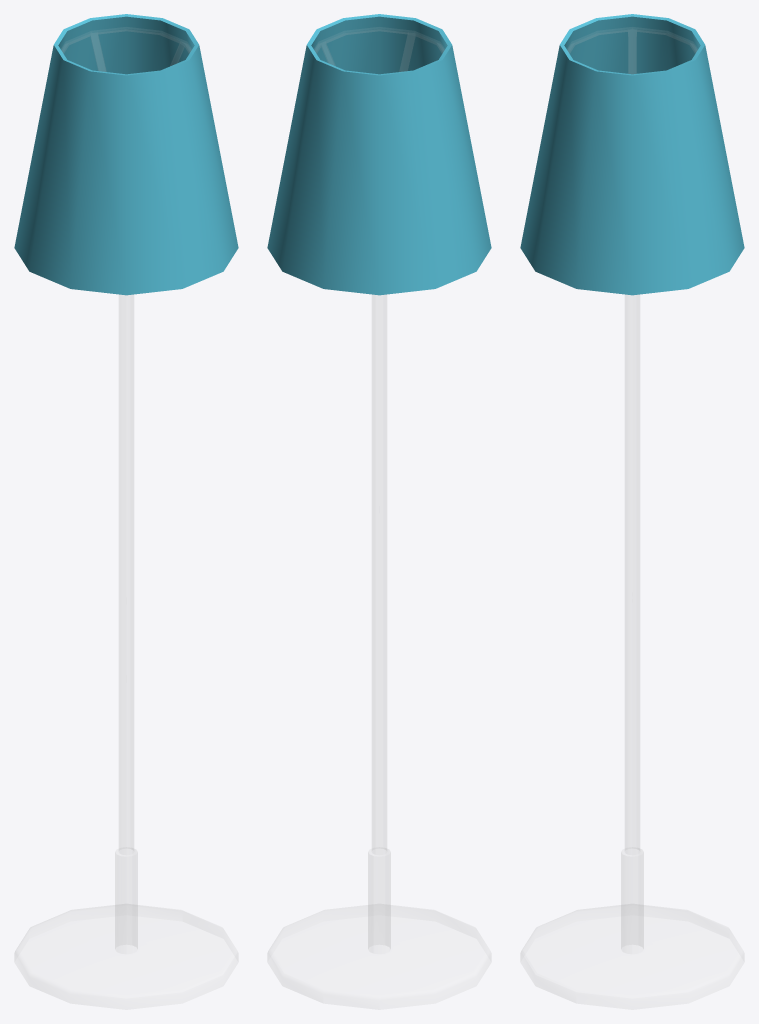
Rendered from Abajur.fbx.
The picture shows the model from 3 angles, left to right: view 1: azimuth 30°, elevation 25°; view 2: azimuth 150°, elevation 25°; view 3: azimuth 270°, elevation 25°; orthographic projection.
Visible parts, largest first — view 1: Cylinder; view 2: Cylinder; view 3: Cylinder.
Boxes of the visible parts, x1=… form: Cylinder: x1=14, y1=14, x2=238, y2=1009; Cylinder: x1=267, y1=14, x2=491, y2=1009; Cylinder: x1=520, y1=14, x2=744, y2=1009.
Bounding box in the file's own units: 200 × 903 × 200.
